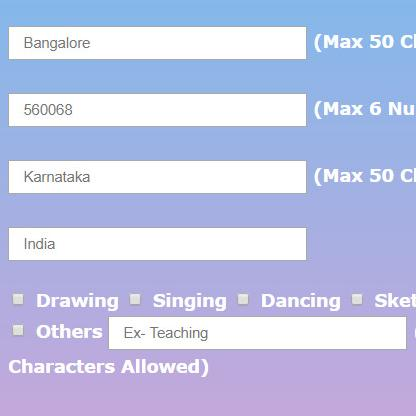checkbox: (7, 291, 26, 309), (347, 290, 367, 307), (126, 290, 142, 309), (233, 291, 250, 308), (9, 322, 25, 339)
checkbox_with_label: (3, 288, 119, 313), (229, 288, 340, 312), (124, 286, 226, 312), (7, 318, 104, 345)
field: (5, 226, 309, 265), (5, 24, 309, 62), (5, 90, 309, 128), (104, 316, 409, 353), (7, 159, 308, 196)
